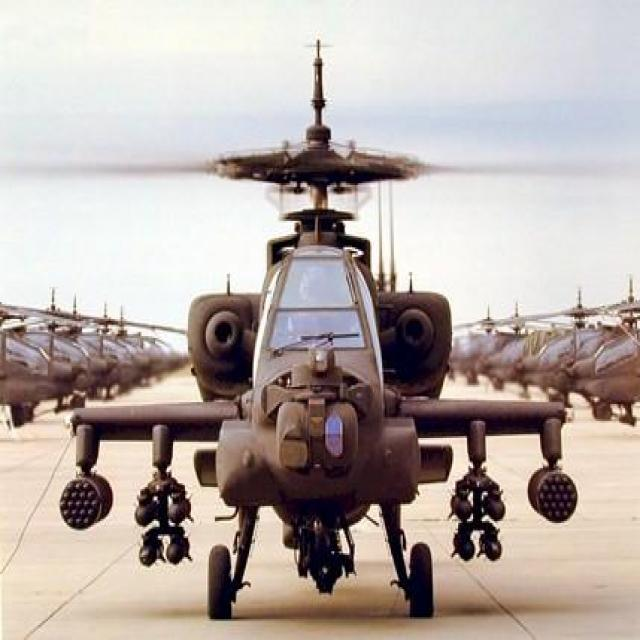MIL_HELO: (0, 38, 640, 630)
